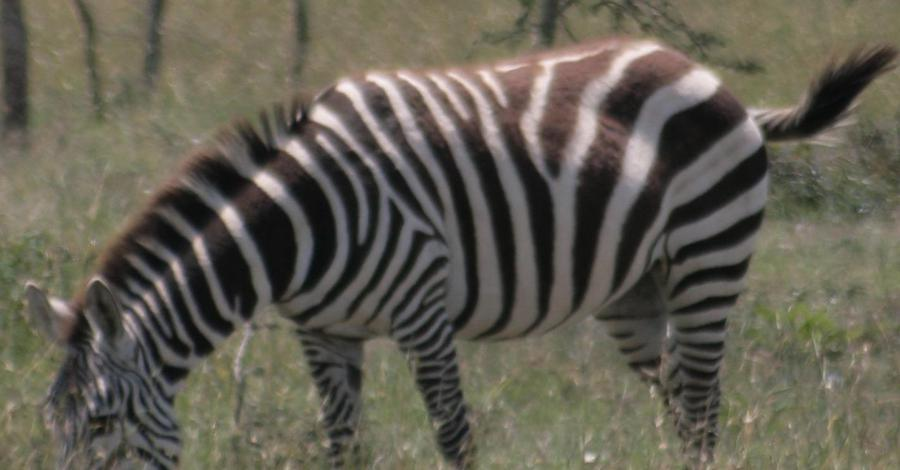zebra_plains: (245, 42, 817, 342)
